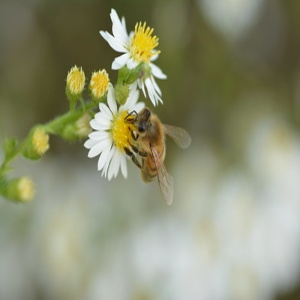bee: (122, 106, 193, 212)
